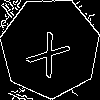X: (25, 22, 78, 79)
